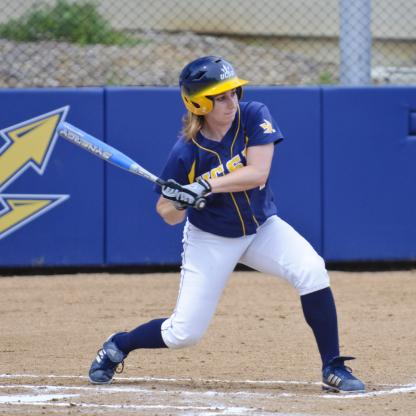Helmet: (183, 54, 245, 126)
